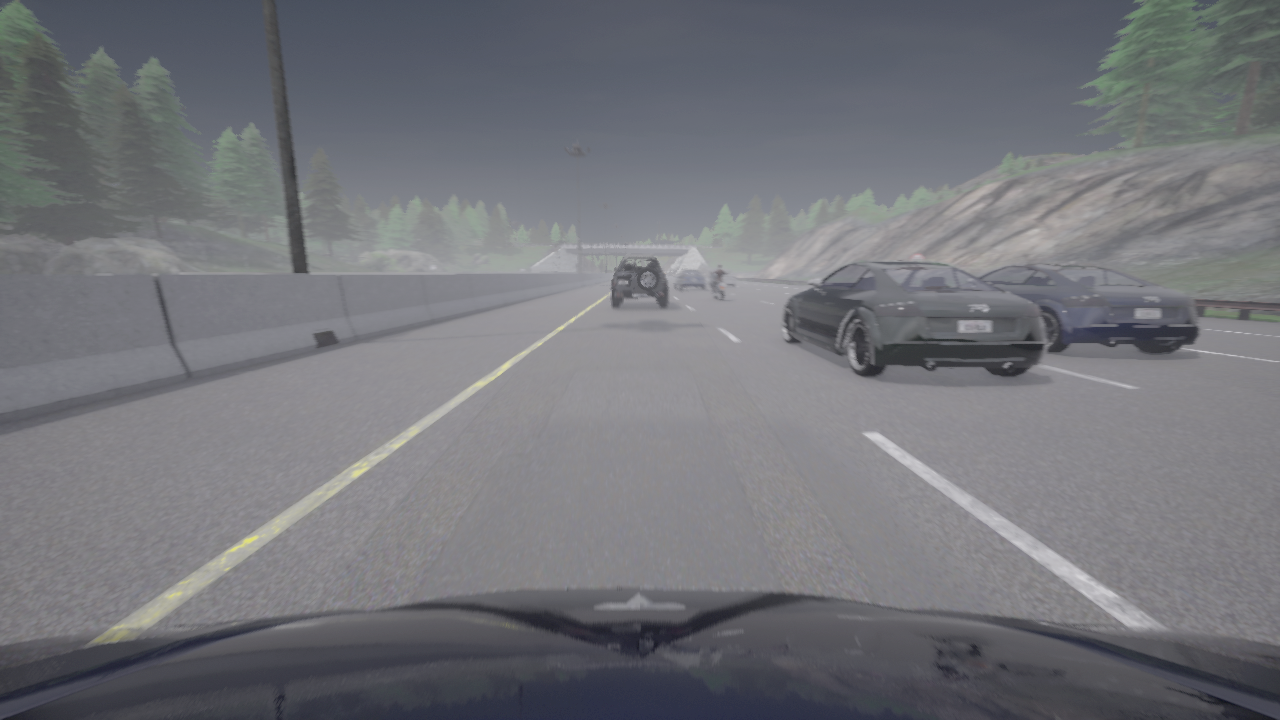cyclist: (0, 588, 1279, 719), (780, 261, 1046, 376), (979, 263, 1199, 353), (611, 255, 667, 307), (674, 270, 705, 290), (709, 270, 735, 287), (712, 276, 726, 300)
